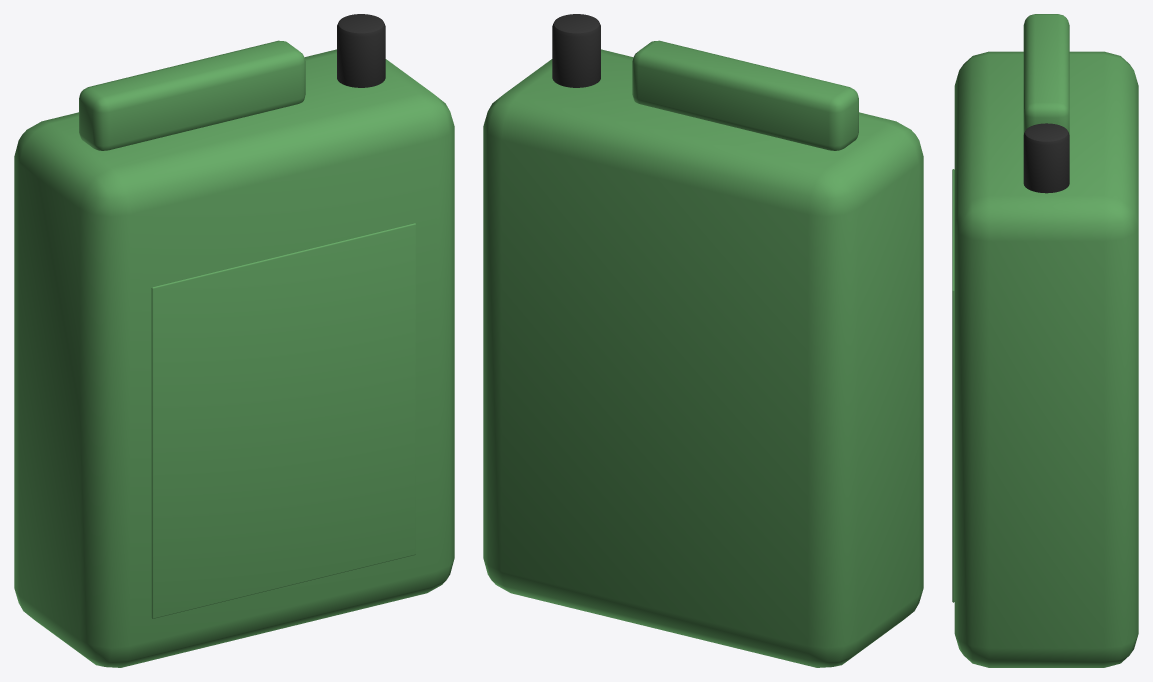
Rendered from jerrycan.glb.
3 renders of one model, left to right at view 1: azimuth 30°, elevation 25°; view 2: azimuth 150°, elevation 25°; view 3: azimuth 270°, elevation 25°, orthographic. The views are drawn at different scales.
Visible parts, largest first — view 1: can, x, handle, spout; view 2: can, handle, spout; view 3: can, handle, spout, x.
Part boxes in pixels (bbox=[...]): can: bbox=[14, 49, 454, 667]; x: bbox=[151, 223, 415, 618]; handle: bbox=[79, 40, 305, 150]; spout: bbox=[337, 14, 385, 87]; can: bbox=[483, 49, 923, 667]; handle: bbox=[632, 40, 858, 150]; spout: bbox=[552, 14, 600, 87]; can: bbox=[954, 51, 1138, 667]; handle: bbox=[1023, 14, 1069, 134]; spout: bbox=[1023, 123, 1069, 193]; x: bbox=[952, 169, 954, 602].
Bounding box in the file's own units: 0.35 × 0.5 × 0.162.
